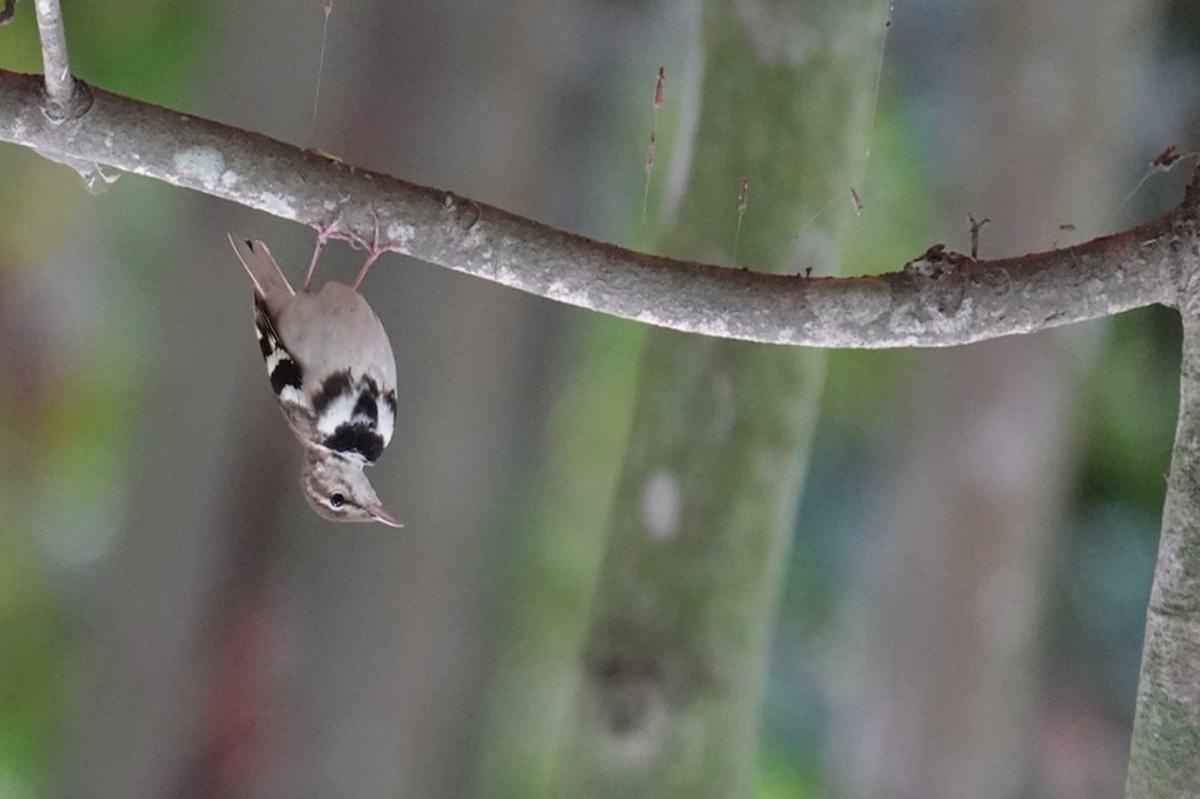wagtail: (228, 213, 418, 537)
